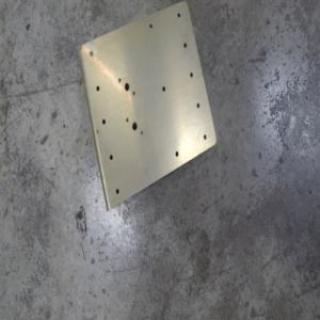MetalSheettrack_idkeyframe: (75, 0, 217, 214)
